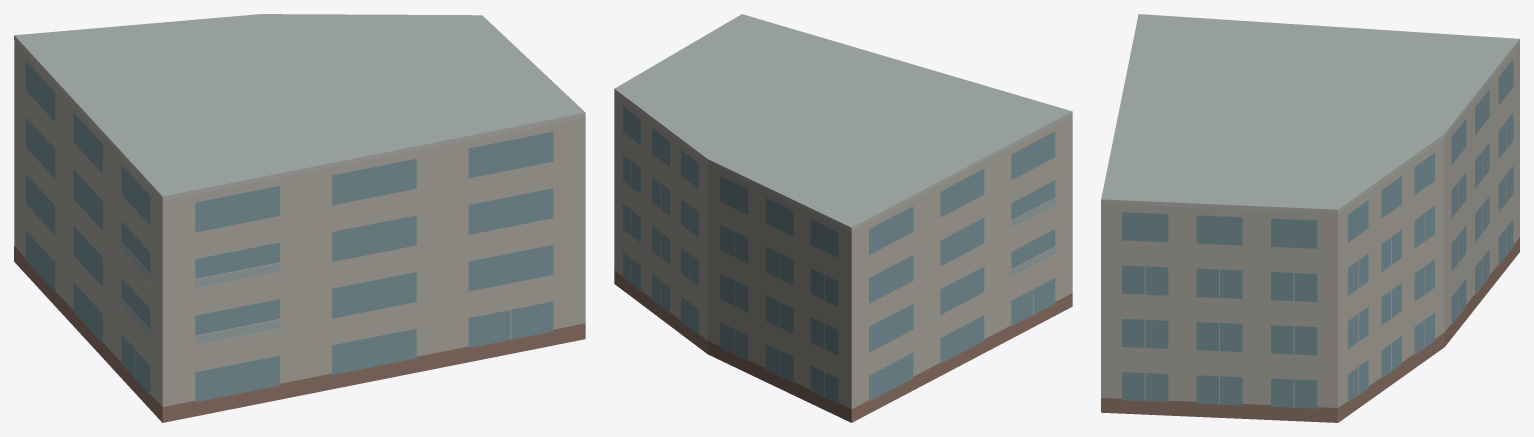
File: survey-upis-32995950.glb
3 views of the same model, side by side, from view 1: azimuth 30°, elevation 25°; view 2: azimuth 150°, elevation 25°; view 3: azimuth 270°, elevation 25° (orthographic). The views are drawn at different scales.
Parts seen in each view (by area): view 1: survey-upis-32995950.tmp; view 2: survey-upis-32995950.tmp; view 3: survey-upis-32995950.tmp.
Part boxes in pixels (x1=…): survey-upis-32995950.tmp: x1=14, y1=14, x2=585, y2=422; survey-upis-32995950.tmp: x1=614, y1=14, x2=1072, y2=422; survey-upis-32995950.tmp: x1=1101, y1=14, x2=1519, y2=422.
Bounding box in the file's own units: 23.81 × 12.1 × 21.54.
